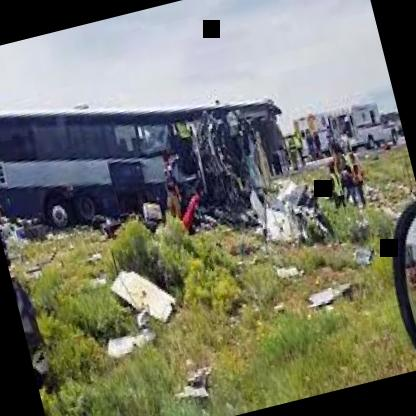accident: (0, 13, 347, 322)
